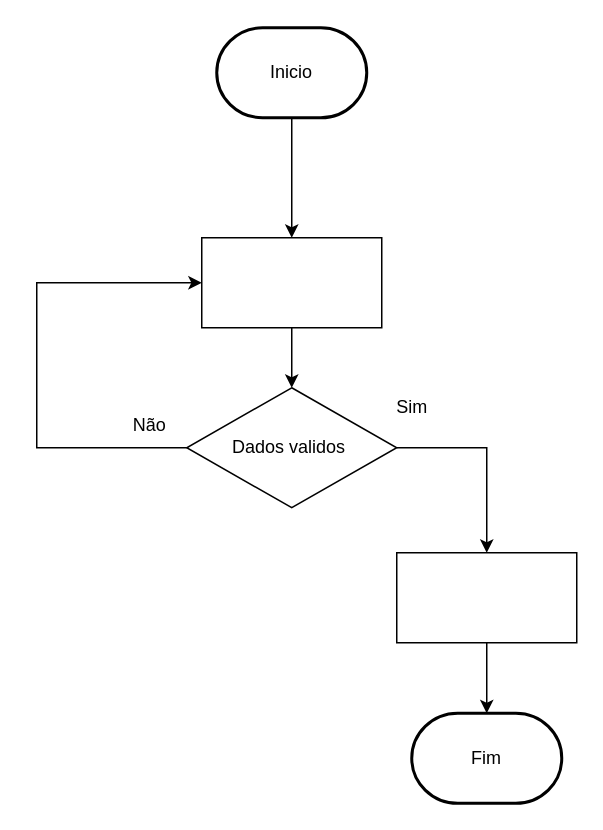
Some shapes in this 603 by 830 pixel diagram are drawn without their labels. Each missing label, with the box of its shape:
Realizar Cadastro: (395, 551, 577, 643)
Receber Dados de Cadastro: (200, 236, 382, 328)
